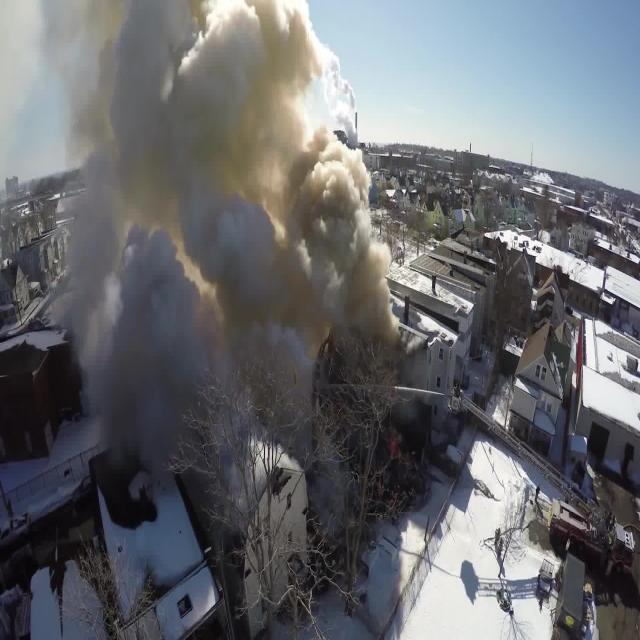Smoke: (37, 0, 403, 473)
